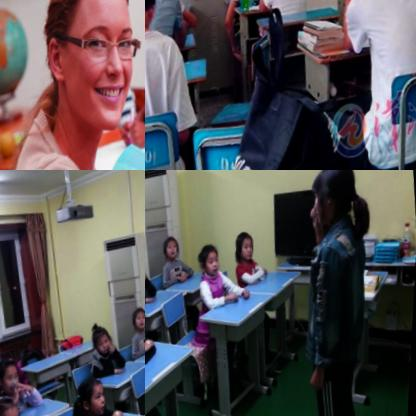head: (38, 0, 145, 146), (307, 170, 361, 240), (74, 374, 111, 416), (196, 244, 223, 280), (0, 352, 23, 394), (234, 232, 259, 268), (90, 325, 114, 359), (160, 233, 184, 263), (0, 392, 27, 416), (129, 304, 145, 334)
